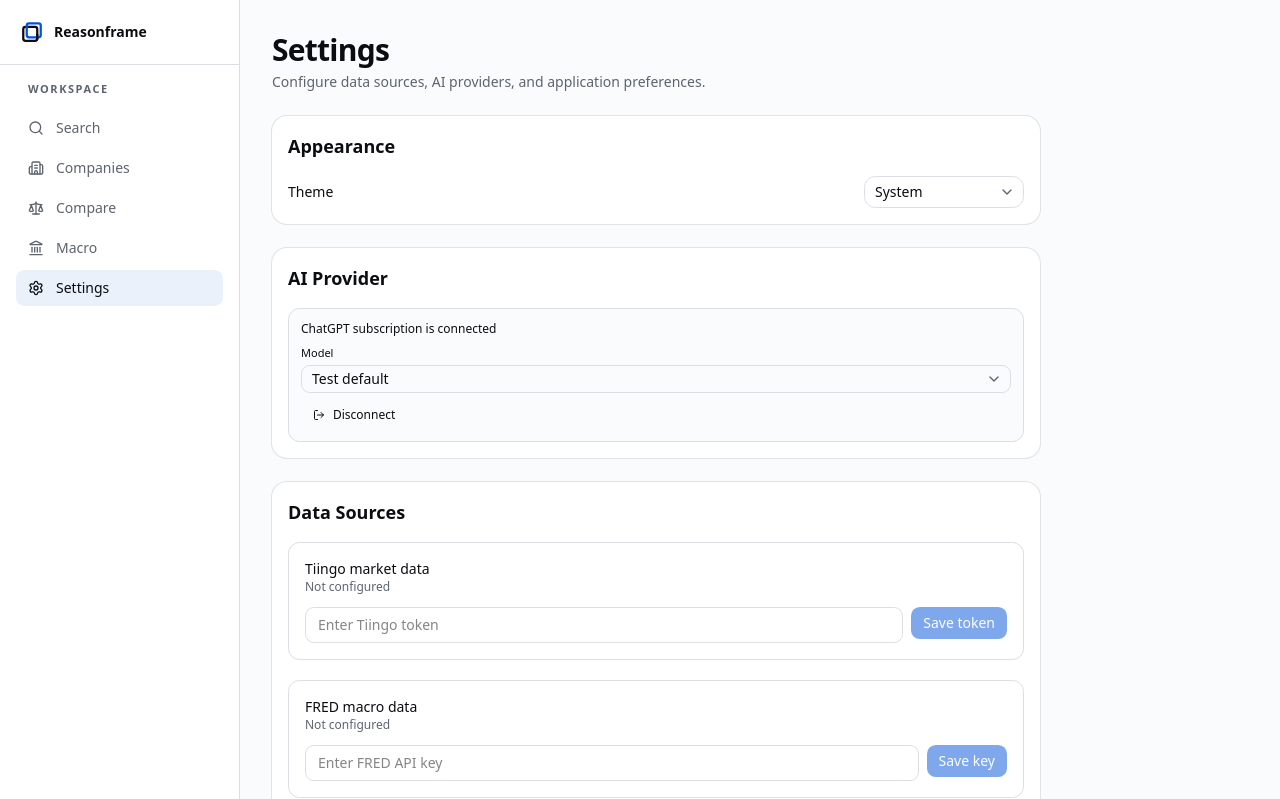
Test: natural-language search workspace › shows sanitized ChatGPT connection status and supports disconnect
Expected: the text "ChatGPT subscription is connected" is shown, [301, 320, 496, 337]
Expected: the dropdown named "AI search model" shows "Test default", [301, 365, 1011, 393]
Click the button "Disconnect".
click(354, 415)  # box [301, 401, 407, 429]
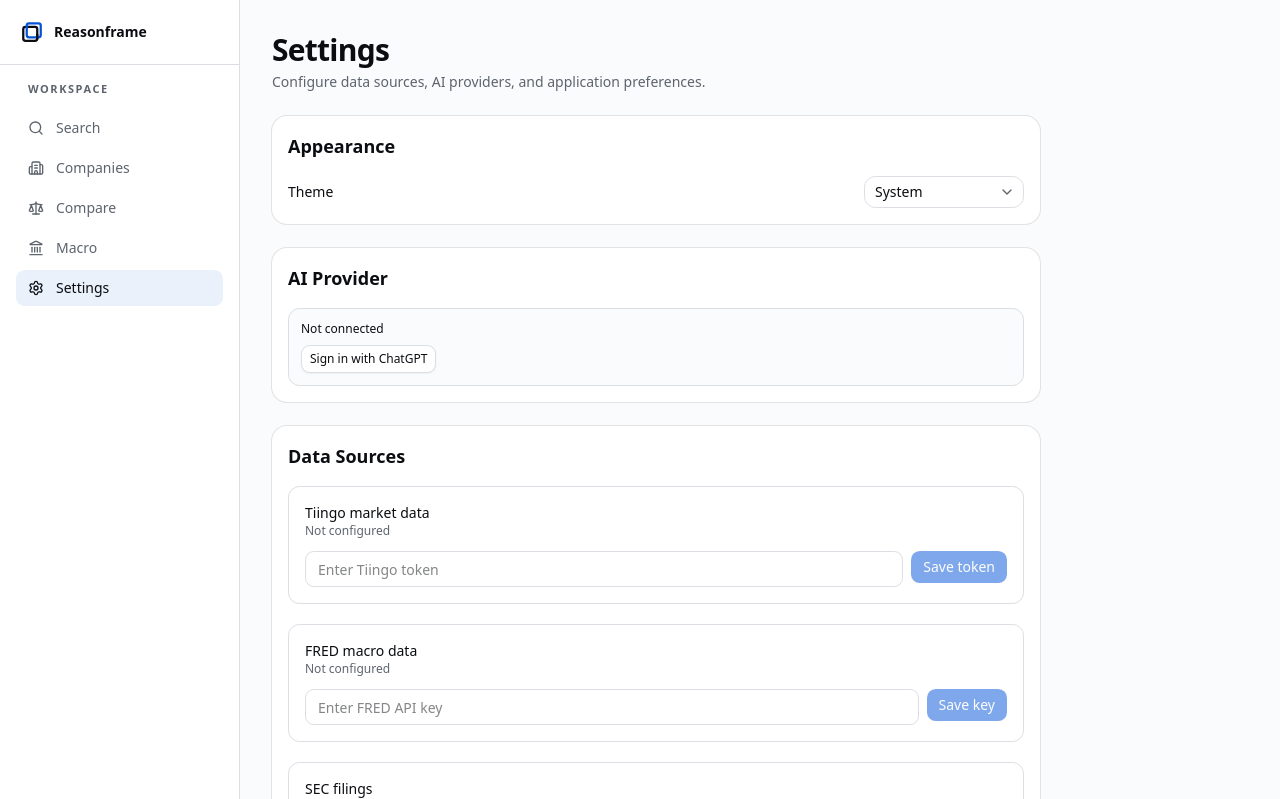
Expected: the text "Not connected" is shown, [301, 320, 384, 337]
